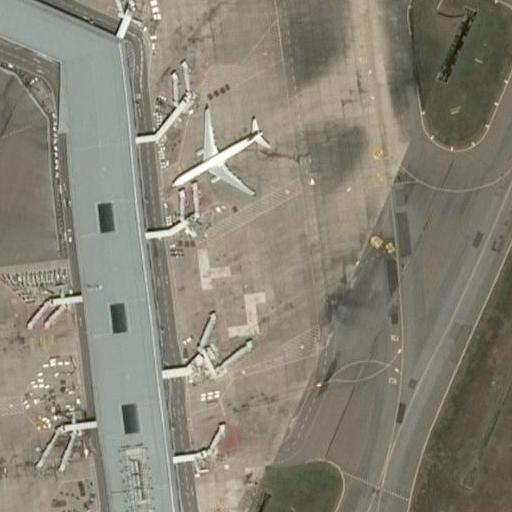Aircraft: (170, 104, 274, 194)
